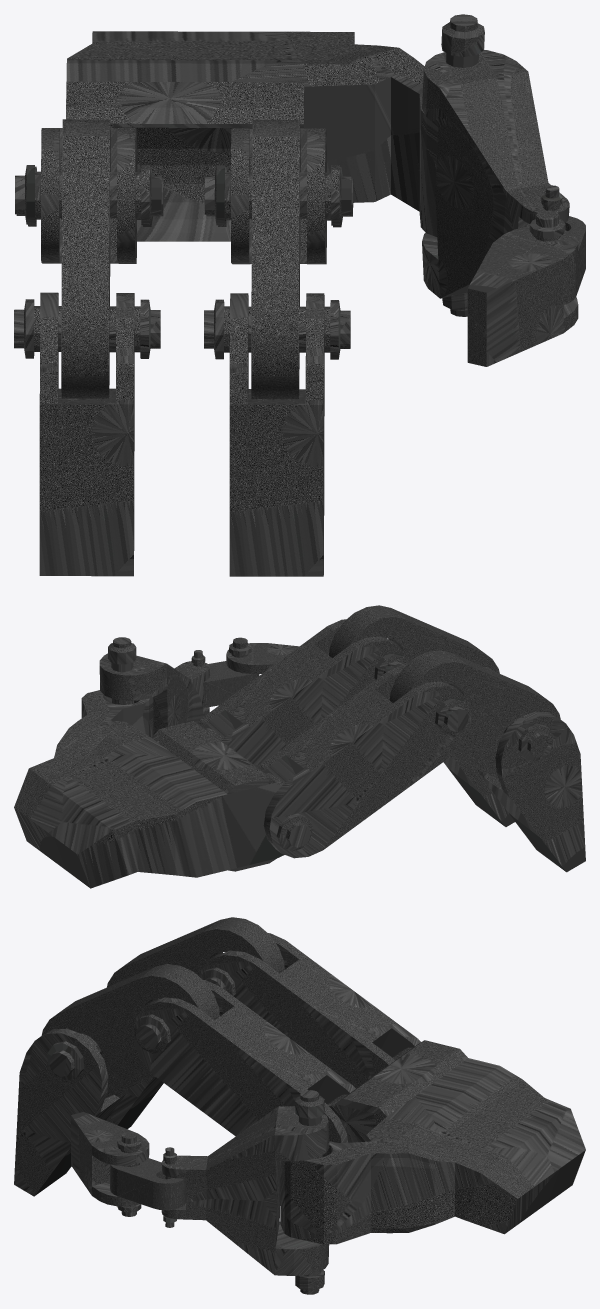
File: Grab.fbx
The picture shows the model from 3 angles, top to bottom: view 1: azimuth 30°, elevation 25°; view 2: azimuth 150°, elevation 25°; view 3: azimuth 270°, elevation 25°; orthographic projection. The views are drawn at different scales.
Visible parts, largest first — view 1: pPipe2, pCube5.002, group2.001, group1.001, group1, group2, pCube6, pCube5, pCube5.001, pPipe3; view 2: pPipe2, pCube5.001, pCube5, group1.001, group1, pCube5.002, group2, pCube6, group2.001, pPipe3; view 3: pPipe2, pCube5, pCube5.002, pCube5.001, group2.001, group2, group1, pCube6, pPipe3, group1.001.
Part boxes in pixels (<box>): pPipe2: <box>66,31,438,241</box>; pCube5.002: <box>422,14,569,316</box>; group2.001: <box>204,293,350,576</box>; group1.001: <box>14,292,160,576</box>; group1: <box>61,119,110,398</box>; group2: <box>251,120,300,399</box>; pCube6: <box>467,210,578,366</box>; pCube5: <box>204,128,353,264</box>; pCube5.001: <box>15,128,163,263</box>; pPipe3: <box>526,216,585,304</box>; pPipe2: <box>14,690,284,888</box>; pCube5.001: <box>258,664,471,858</box>; pCube5: <box>197,619,408,767</box>; group1.001: <box>477,712,585,872</box>; group1: <box>389,650,560,778</box>; pCube5.002: <box>99,637,209,735</box>; group2: <box>329,605,499,673</box>; pCube6: <box>226,637,299,674</box>; group2.001: <box>443,667,514,826</box>; pPipe3: <box>203,661,259,707</box>; pPipe2: <box>280,1040,585,1244</box>; pCube5: <box>133,980,355,1142</box>; pCube5.002: <box>161,1090,329,1294</box>; pCube5.001: <box>200,933,420,1088</box>; group2.001: <box>14,1028,127,1196</box>; group2: <box>41,964,219,1098</box>; group1: <box>107,917,284,987</box>; pCube6: <box>71,1112,149,1216</box>; pPipe3: <box>110,1158,186,1210</box>; group1.001: <box>106,982,163,1128</box>.
Bounding box in the file's own units: 1372 × 767 × 1636.
10 materials, 10 textured.
